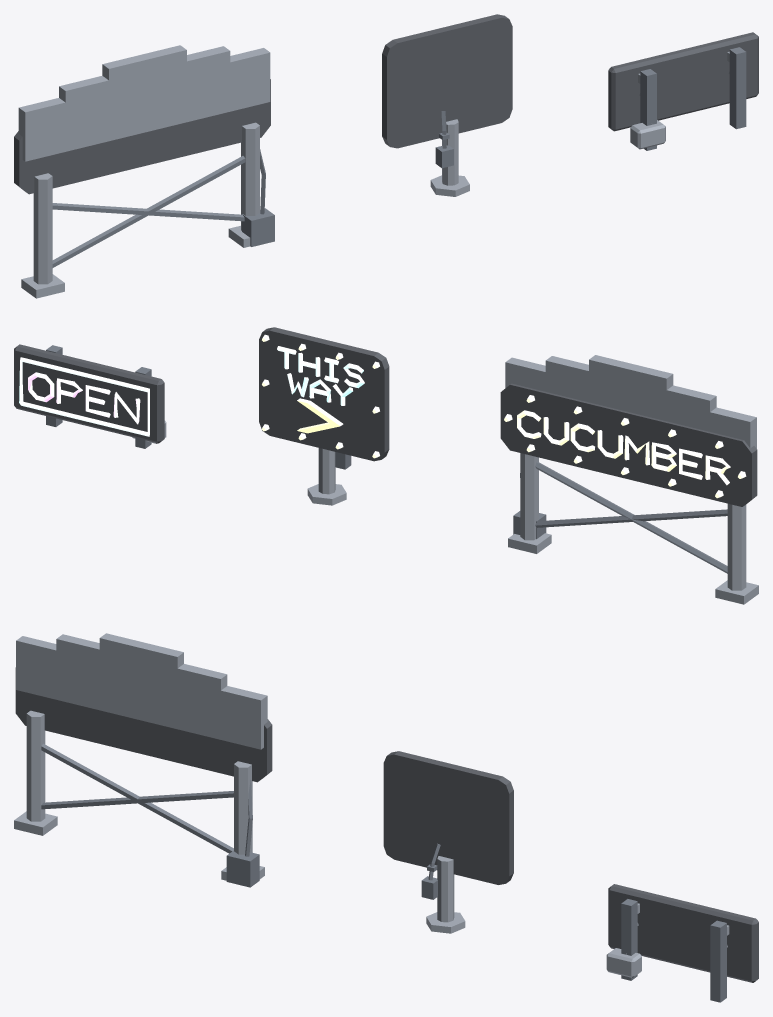
Rendered from NeonSign.fbx.
3 renders of one model, top to bottom at view 1: azimuth 30°, elevation 25°; view 2: azimuth 150°, elevation 25°; view 3: azimuth 330°, elevation 25°, orthographic.
Parts seen in each view (by area): view 1: NeonSign.C_Crown, NeonSign.B_Panel, NeonSign.C_Panel, NeonSign.A_Panel, NeonSign.C_Frame, NeonSign.C_Rigging, NeonSign.A_Struts, NeonSign.B_Post, NeonSign.A_Hardware, NeonSign.B_Gear; view 2: NeonSign.C_Panel, NeonSign.B_Panel, NeonSign.C_Crown, NeonSign.A_Panel, NeonSign.C_Frame, NeonSign.C_Rigging, NeonSign.C_Text, NeonSign.B_Text, NeonSign.A_Border, NeonSign.A_Text, NeonSign.B_Post, NeonSign.C_Bulbs (+2 smaller); view 3: NeonSign.C_Crown, NeonSign.B_Panel, NeonSign.C_Panel, NeonSign.A_Panel, NeonSign.C_Frame, NeonSign.C_Rigging, NeonSign.A_Struts, NeonSign.B_Post, NeonSign.A_Hardware.
Part boxes in pixels (bbox=[...]): NeonSign.C_Crown: bbox=[18, 45, 270, 161]; NeonSign.B_Panel: bbox=[382, 14, 512, 148]; NeonSign.C_Panel: bbox=[14, 79, 270, 194]; NeonSign.A_Panel: bbox=[608, 32, 758, 131]; NeonSign.C_Frame: bbox=[21, 122, 259, 298]; NeonSign.C_Rigging: bbox=[52, 149, 274, 267]; NeonSign.A_Struts: bbox=[640, 47, 746, 150]; NeonSign.B_Post: bbox=[430, 119, 469, 196]; NeonSign.A_Hardware: bbox=[630, 51, 729, 149]; NeonSign.B_Gear: bbox=[435, 111, 453, 168]; NeonSign.C_Panel: bbox=[500, 383, 757, 506]; NeonSign.B_Panel: bbox=[259, 327, 389, 461]; NeonSign.C_Crown: bbox=[505, 355, 756, 448]; NeonSign.A_Panel: bbox=[14, 344, 164, 443]; NeonSign.C_Frame: bbox=[508, 453, 758, 604]; NeonSign.C_Rigging: bbox=[513, 462, 727, 573]; NeonSign.C_Text: bbox=[517, 410, 730, 485]; NeonSign.B_Text: bbox=[277, 346, 364, 405]; NeonSign.A_Border: bbox=[19, 357, 149, 436]; NeonSign.A_Text: bbox=[28, 372, 140, 424]; NeonSign.B_Post: bbox=[307, 448, 346, 505]; NeonSign.C_Bulbs: bbox=[504, 395, 746, 498]; NeonSign.C_Crown: bbox=[16, 633, 267, 749]; NeonSign.B_Panel: bbox=[383, 751, 513, 884]; NeonSign.C_Panel: bbox=[15, 667, 272, 782]; NeonSign.A_Panel: bbox=[608, 884, 758, 982]; NeonSign.C_Frame: bbox=[14, 710, 264, 880]; NeonSign.C_Rigging: bbox=[41, 743, 259, 887]; NeonSign.A_Struts: bbox=[621, 899, 726, 1002]; NeonSign.B_Post: bbox=[426, 856, 465, 933]; NeonSign.A_Hardware: bbox=[606, 903, 729, 977].
Size of the model in its own units: 23.55 by 6.25 by 1.34.
